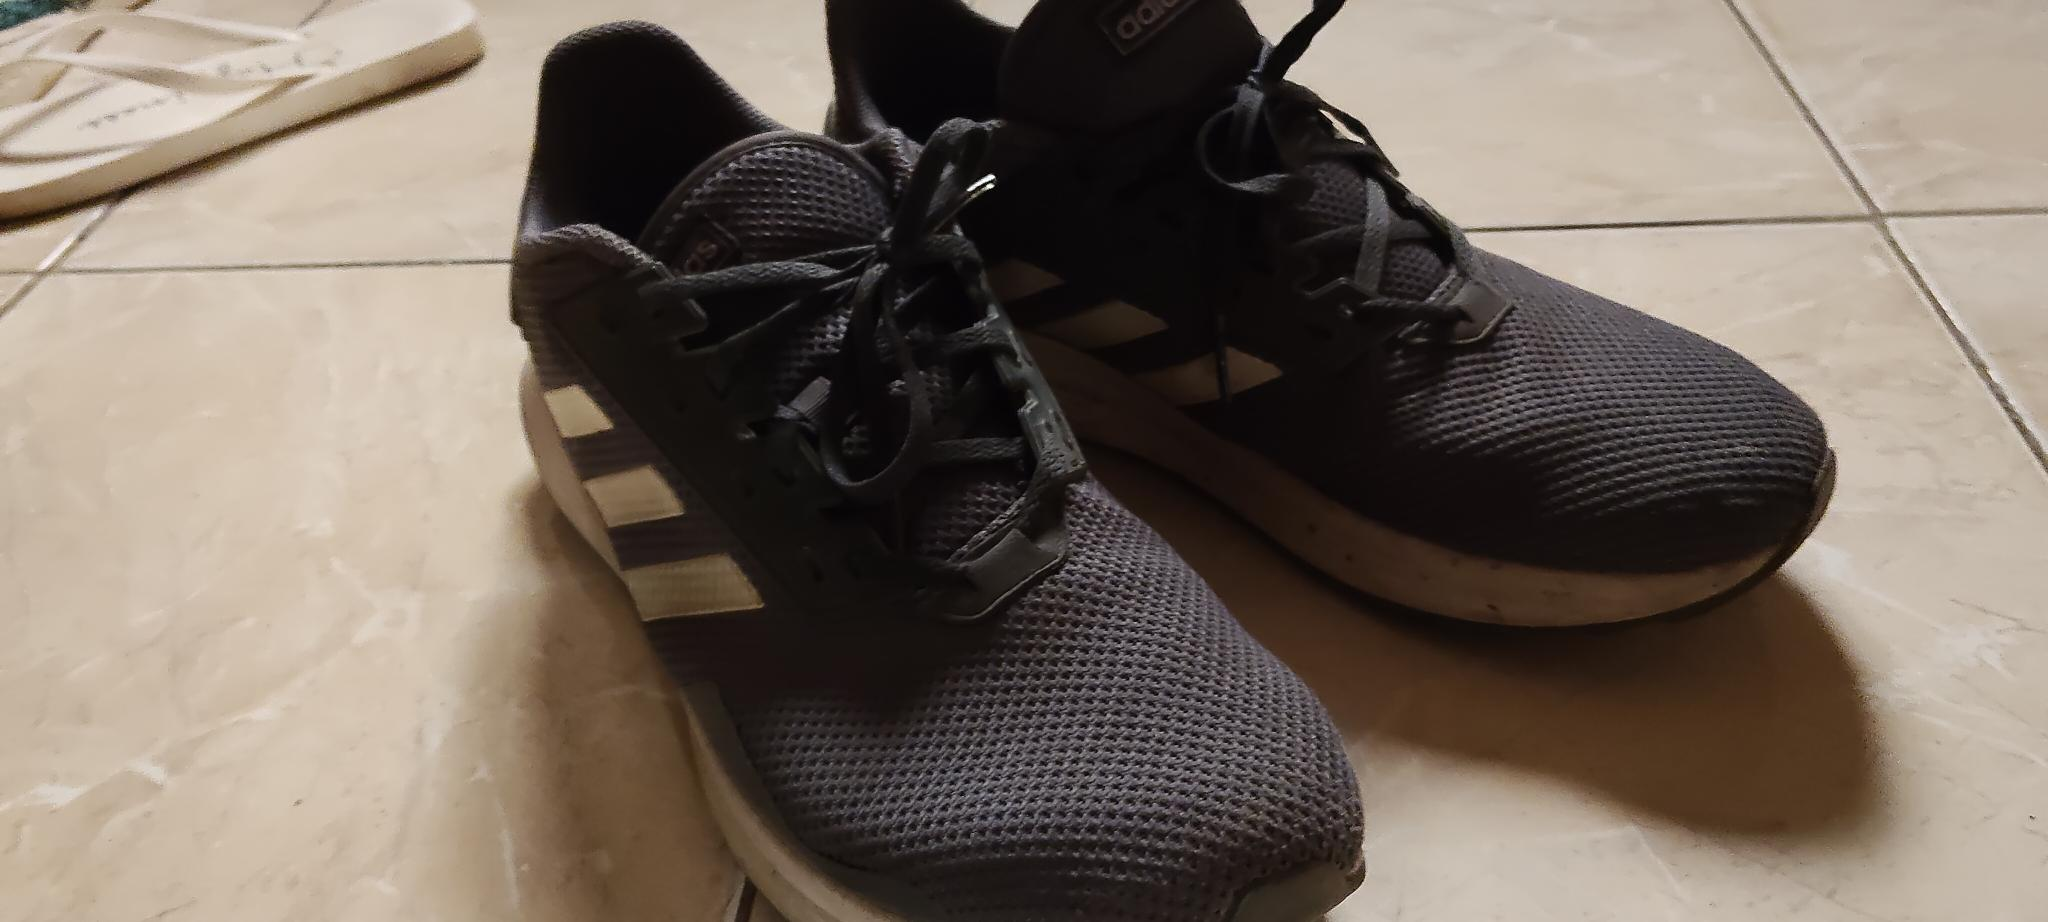Shoes: (508, 16, 1370, 921), (823, 0, 1839, 635)
